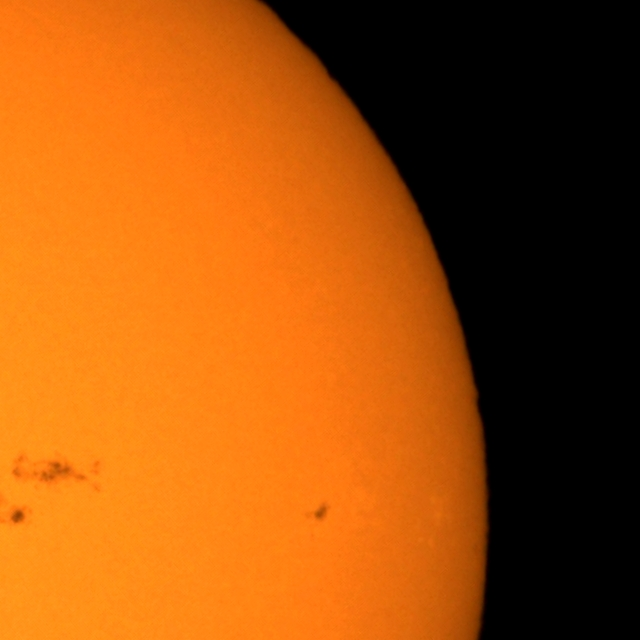sunspot: (8, 454, 70, 488), (305, 500, 333, 524), (0, 506, 28, 528)
